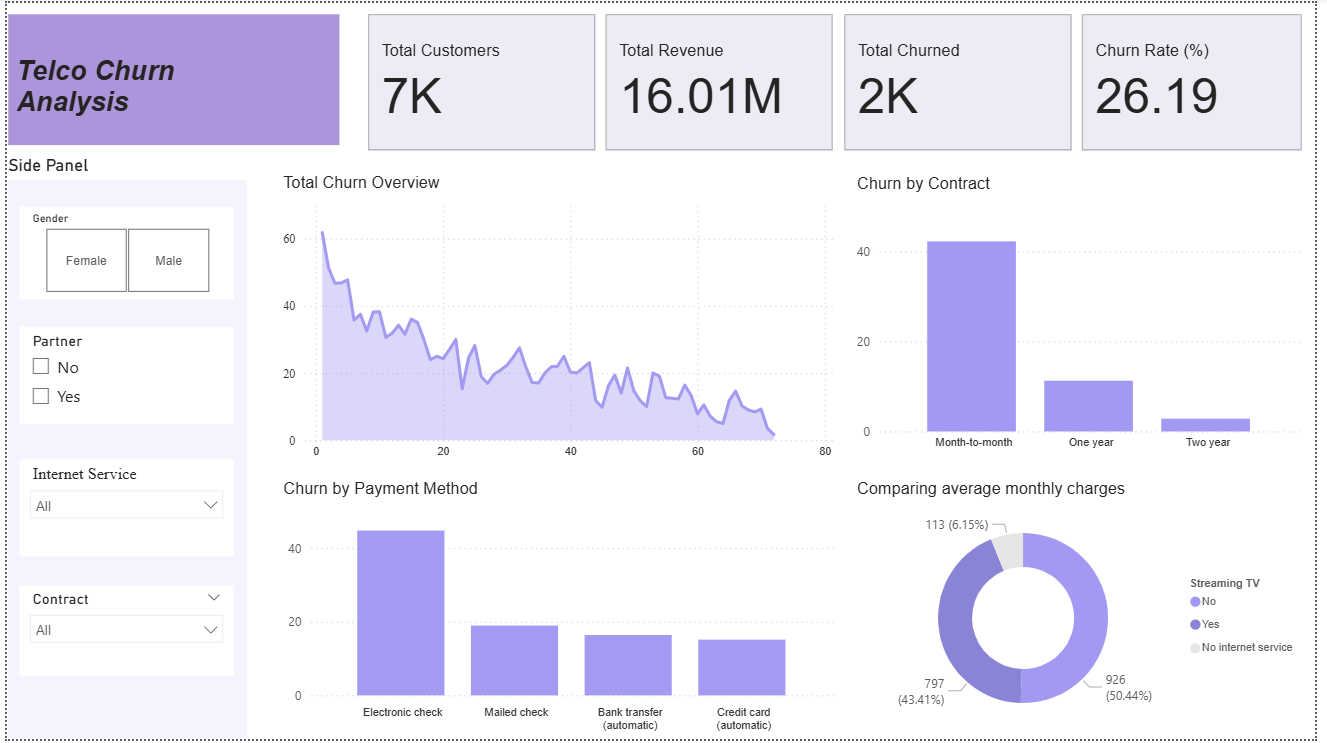

What the dashboard file says about the page in this screenshot:
{"tool":"powerbi","page":{"name":"Page 1","canvas":[1280,720],"ordinal":0},"visuals":[{"type":"clusteredColumnChart","title":"Churn by Contract","fields":{"Category":["Telco_Churn.Contract"],"Y":["Telco_Churn.Churn Rate (%)"]},"box":[826.6,167.5,445.1,278.8],"z":0},{"type":"columnChart","title":"Churn by Payment Method","fields":{"Category":["Telco_Churn.Payment Method"],"Y":["Telco_Churn.Churn Rate (%)"]},"box":[265.7,466.1,549.6,254.6],"z":1000},{"type":"areaChart","title":"Total Churn Overview","fields":{"Category":["Telco_Churn.Tenure Months"],"Y":["Telco_Churn.Churn Rate (%)"]},"box":[265.5,166.8,549.8,287.7],"z":2000},{"type":"donutChart","title":"Comparing average monthly charges","fields":{"Y":["Telco_Churn.Total Churned"],"Category":["Telco_Churn.Streaming TV"]},"box":[826.6,465.9,445.1,254.3],"z":6000},{"type":"cardVisual","fields":{"Data":["Telco_Churn.Total Churned"]},"box":[813.9,6.3,232.9,143],"z":7000},{"type":"cardVisual","fields":{"Data":["Telco_Churn.Total Revenue"]},"box":[581,6.3,232.9,143],"z":9000},{"type":"cardVisual","fields":{"Data":["Telco_Churn.Total Customers"]},"box":[348.1,6.3,232.9,143],"z":10000},{"type":"textbox","title":"Telco Churn Analytics","box":[1.3,11.4,324.1,127.8],"z":10500},{"type":"cardVisual","fields":{"Data":["Telco_Churn.Churn Rate (%)"]},"box":[1046.7,6.1,225,143.1],"z":11000},{"type":"shape","title":"Side Panel","box":[1.2,148,233.6,572.3],"z":12000},{"type":"slicer","fields":{"Values":["Telco_Churn.Gender"]},"box":[11.9,199.1,209.4,90.2],"z":12062},{"type":"slicer","fields":{"Values":["Telco_Churn.Contract"]},"box":[11.9,570.2,209.4,88.5],"z":12125},{"type":"slicer","fields":{"Values":["Telco_Churn.Internet Service"]},"box":[11.9,446,209.4,95.3],"z":12250},{"type":"slicer","fields":{"Values":["Telco_Churn.Partner"]},"box":[11.9,316.6,209.4,95.3],"z":12500}]}

Visuals, with their boxes in screenshot pixels (x1, y1, x2, y2), scaled from the page's 1280x720 canvas onto the 1327x743 screenshot:
"Churn by Contract" clusteredColumnChart: detection(857, 173, 1318, 461)
"Churn by Payment Method" columnChart: detection(275, 481, 845, 742)
"Total Churn Overview" areaChart: detection(275, 172, 845, 469)
"Comparing average monthly charges" donutChart: detection(857, 481, 1318, 742)
cardVisual - Telco_Churn.Total Churned: detection(844, 7, 1085, 154)
cardVisual - Telco_Churn.Total Revenue: detection(602, 7, 844, 154)
cardVisual - Telco_Churn.Total Customers: detection(361, 7, 602, 154)
"Telco Churn Analytics" textbox: detection(1, 12, 337, 144)
cardVisual - Telco_Churn.Churn Rate (%): detection(1085, 6, 1318, 154)
"Side Panel" shape: detection(1, 153, 243, 742)
slicer - Telco_Churn.Gender: detection(12, 205, 229, 299)
slicer - Telco_Churn.Contract: detection(12, 588, 229, 680)
slicer - Telco_Churn.Internet Service: detection(12, 460, 229, 559)
slicer - Telco_Churn.Partner: detection(12, 327, 229, 425)
